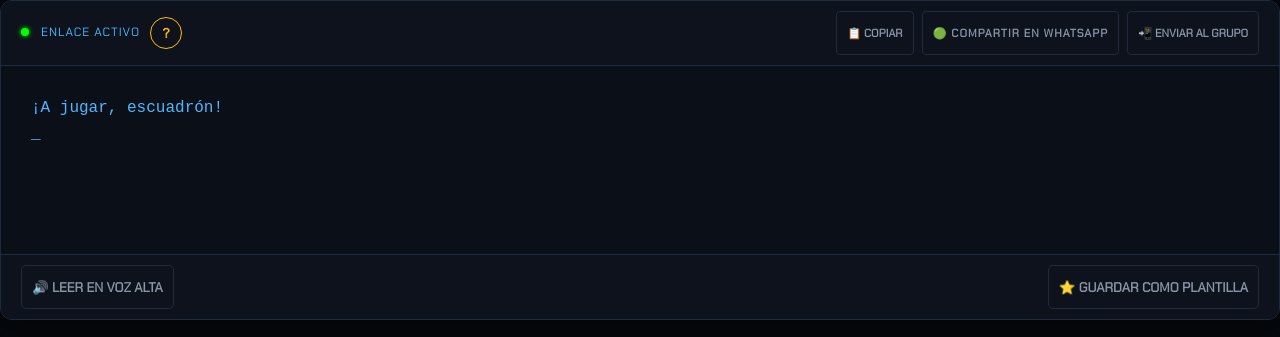
Test: TerminalOutput › COPIAR escribe el texto en el portapapeles y muestra «COPIADO»
Click the button with class "btn-copy" showing "📋 COPIAR": coordinates (875, 33) top-left (836, 11), bottom-right (914, 55)
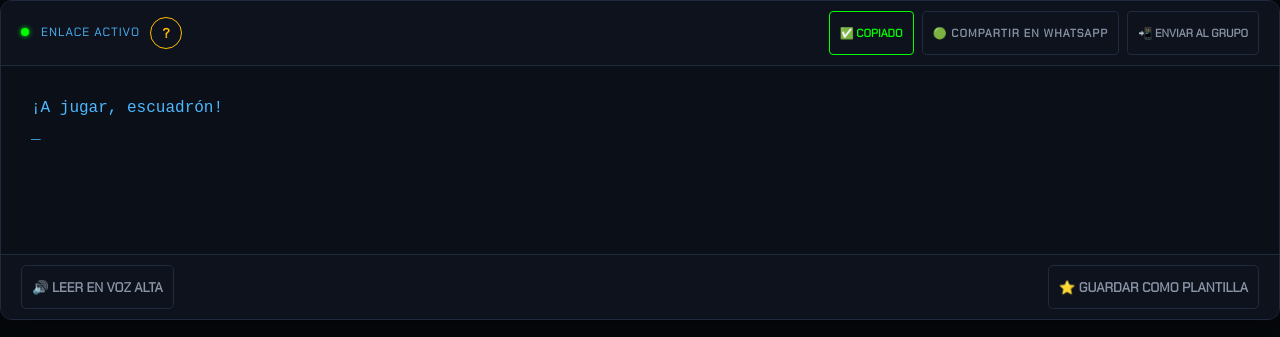
Check: the text "COPIADO" is shown, box top-left (829, 11), bottom-right (914, 55)
